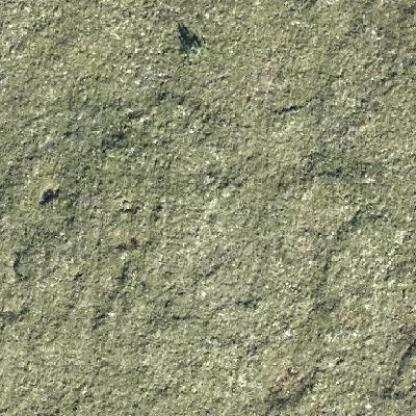tree-top: (178, 32, 204, 58)
